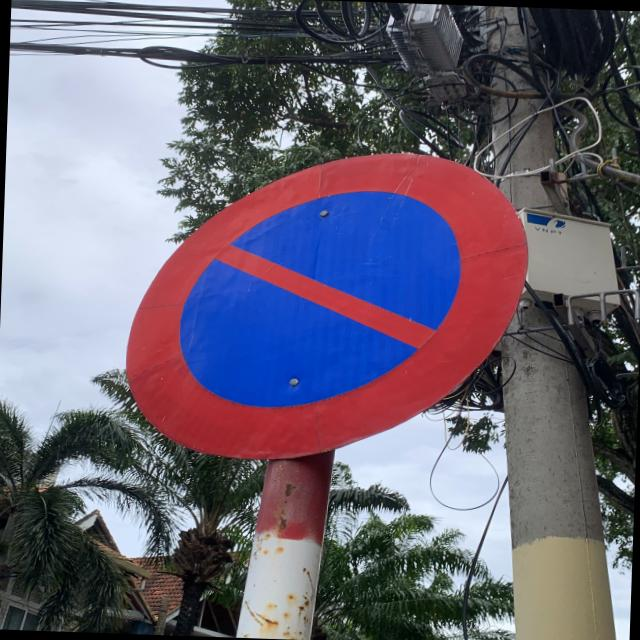Cam_Dau_Xe: (122, 140, 532, 470)
